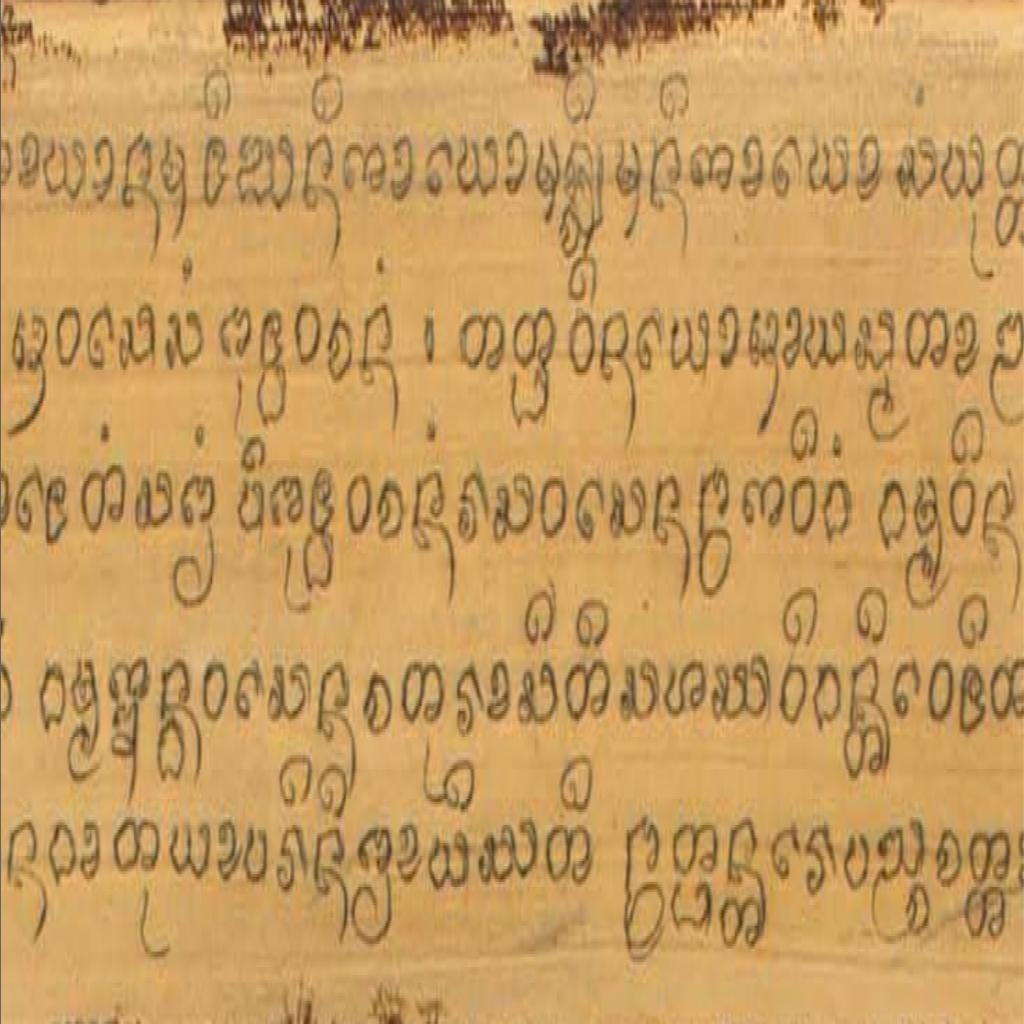LN028: (180, 472, 218, 532)
